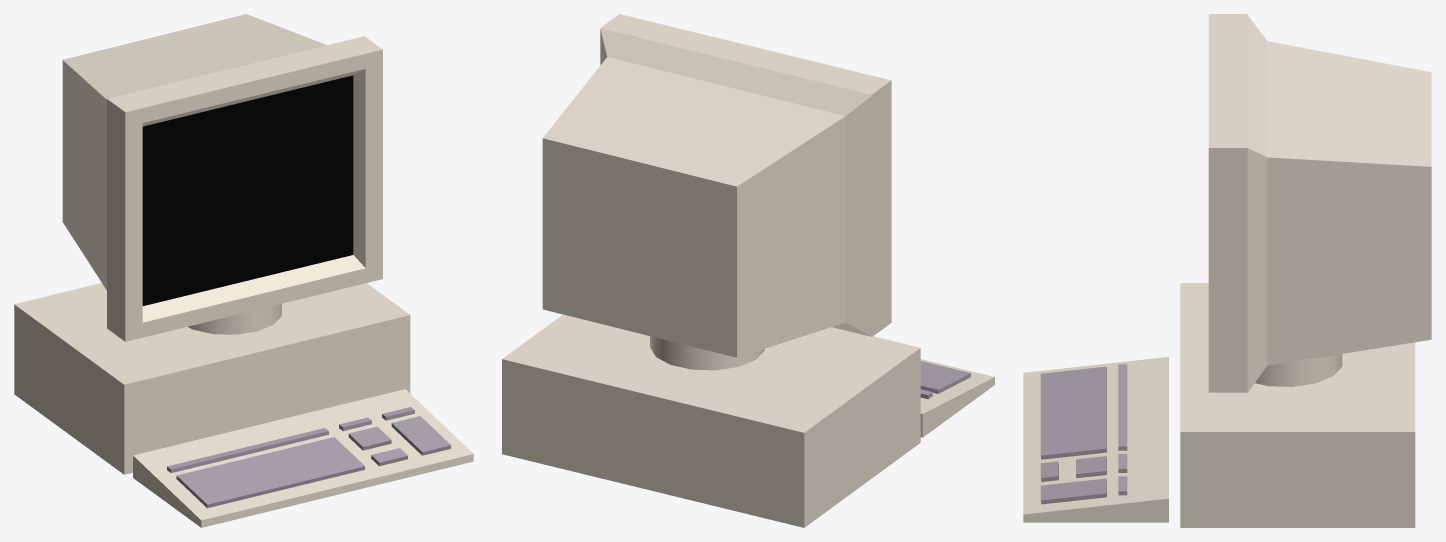
The model's file is computer.glb.
3 renders of one model, left to right at view 1: azimuth 30°, elevation 25°; view 2: azimuth 150°, elevation 25°; view 3: azimuth 270°, elevation 25°, orthographic. The views are drawn at different scales.
Visible parts, largest first — view 1: Computer; view 2: Computer; view 3: Computer.
Part boxes in pixels (<box>): Computer: <box>14,14,473,527</box>; Computer: <box>502,14,994,527</box>; Computer: <box>1023,14,1431,527</box>.
Size of the model in its own units: 1.16 by 1.36 by 1.35.
